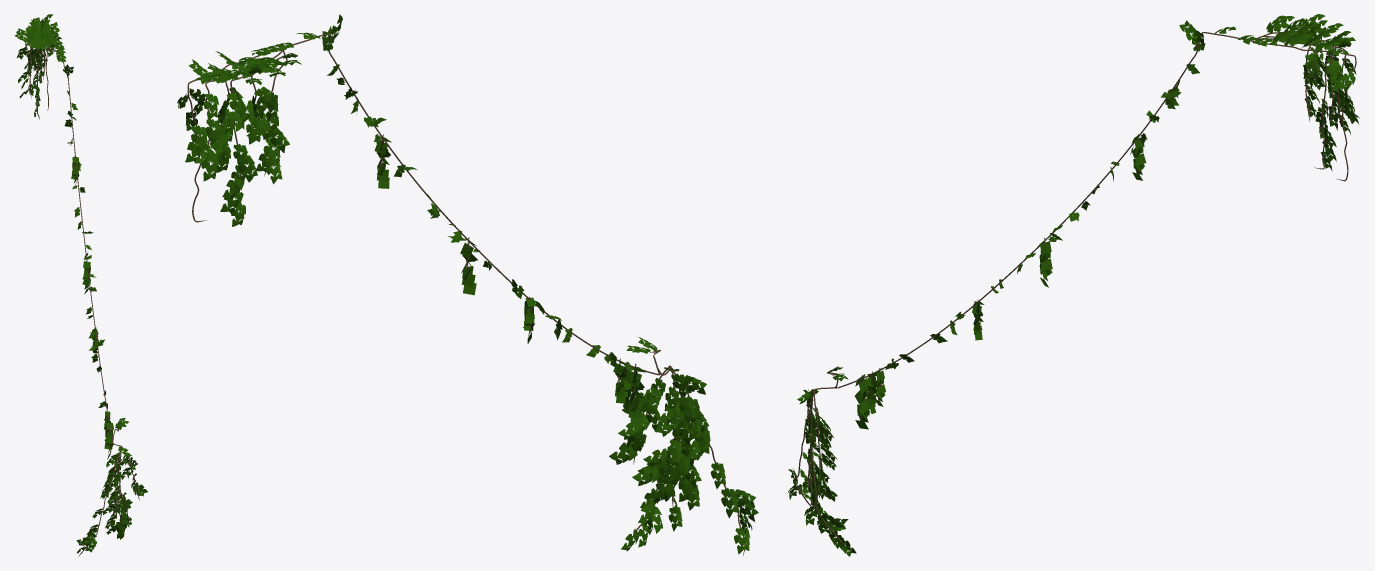
File: Vine04.fbx
3 views of the same model, side by side, from view 1: azimuth 30°, elevation 25°; view 2: azimuth 150°, elevation 25°; view 3: azimuth 270°, elevation 25° (orthographic). The views are drawn at different scales.
Visible parts, largest first — view 1: rickyVines04; view 2: rickyVines04; view 3: rickyVines04.
Part boxes in pixels (x1,y1,x2,y2): rickyVines04: (14,14,147,556); rickyVines04: (177,14,758,555); rickyVines04: (787,14,1359,556).
Size of the model in its own units: 3.05 by 7.01 by 6.25.
